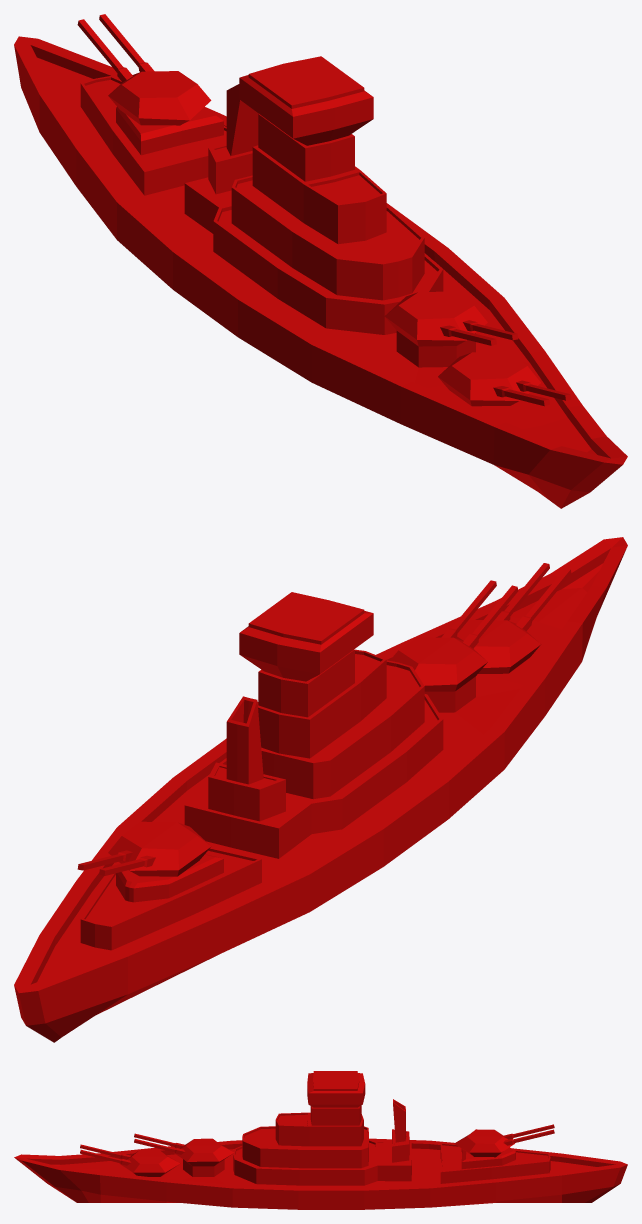
The model's file is DummyWarship.fbx.
3 renders of one model, top to bottom at view 1: azimuth 30°, elevation 25°; view 2: azimuth 150°, elevation 25°; view 3: azimuth 270°, elevation 25°, orthographic. The views are drawn at different scales.
Visible parts, largest first — view 1: DummyTestShip; view 2: DummyTestShip; view 3: DummyTestShip.
Part boxes in pixels (box(x1,y1,x2,y2)): DummyTestShip: box(14, 14, 627, 508); DummyTestShip: box(14, 537, 627, 1042); DummyTestShip: box(14, 1071, 627, 1209).
Size of the model in its own units: 292 by 320 by 1449.
